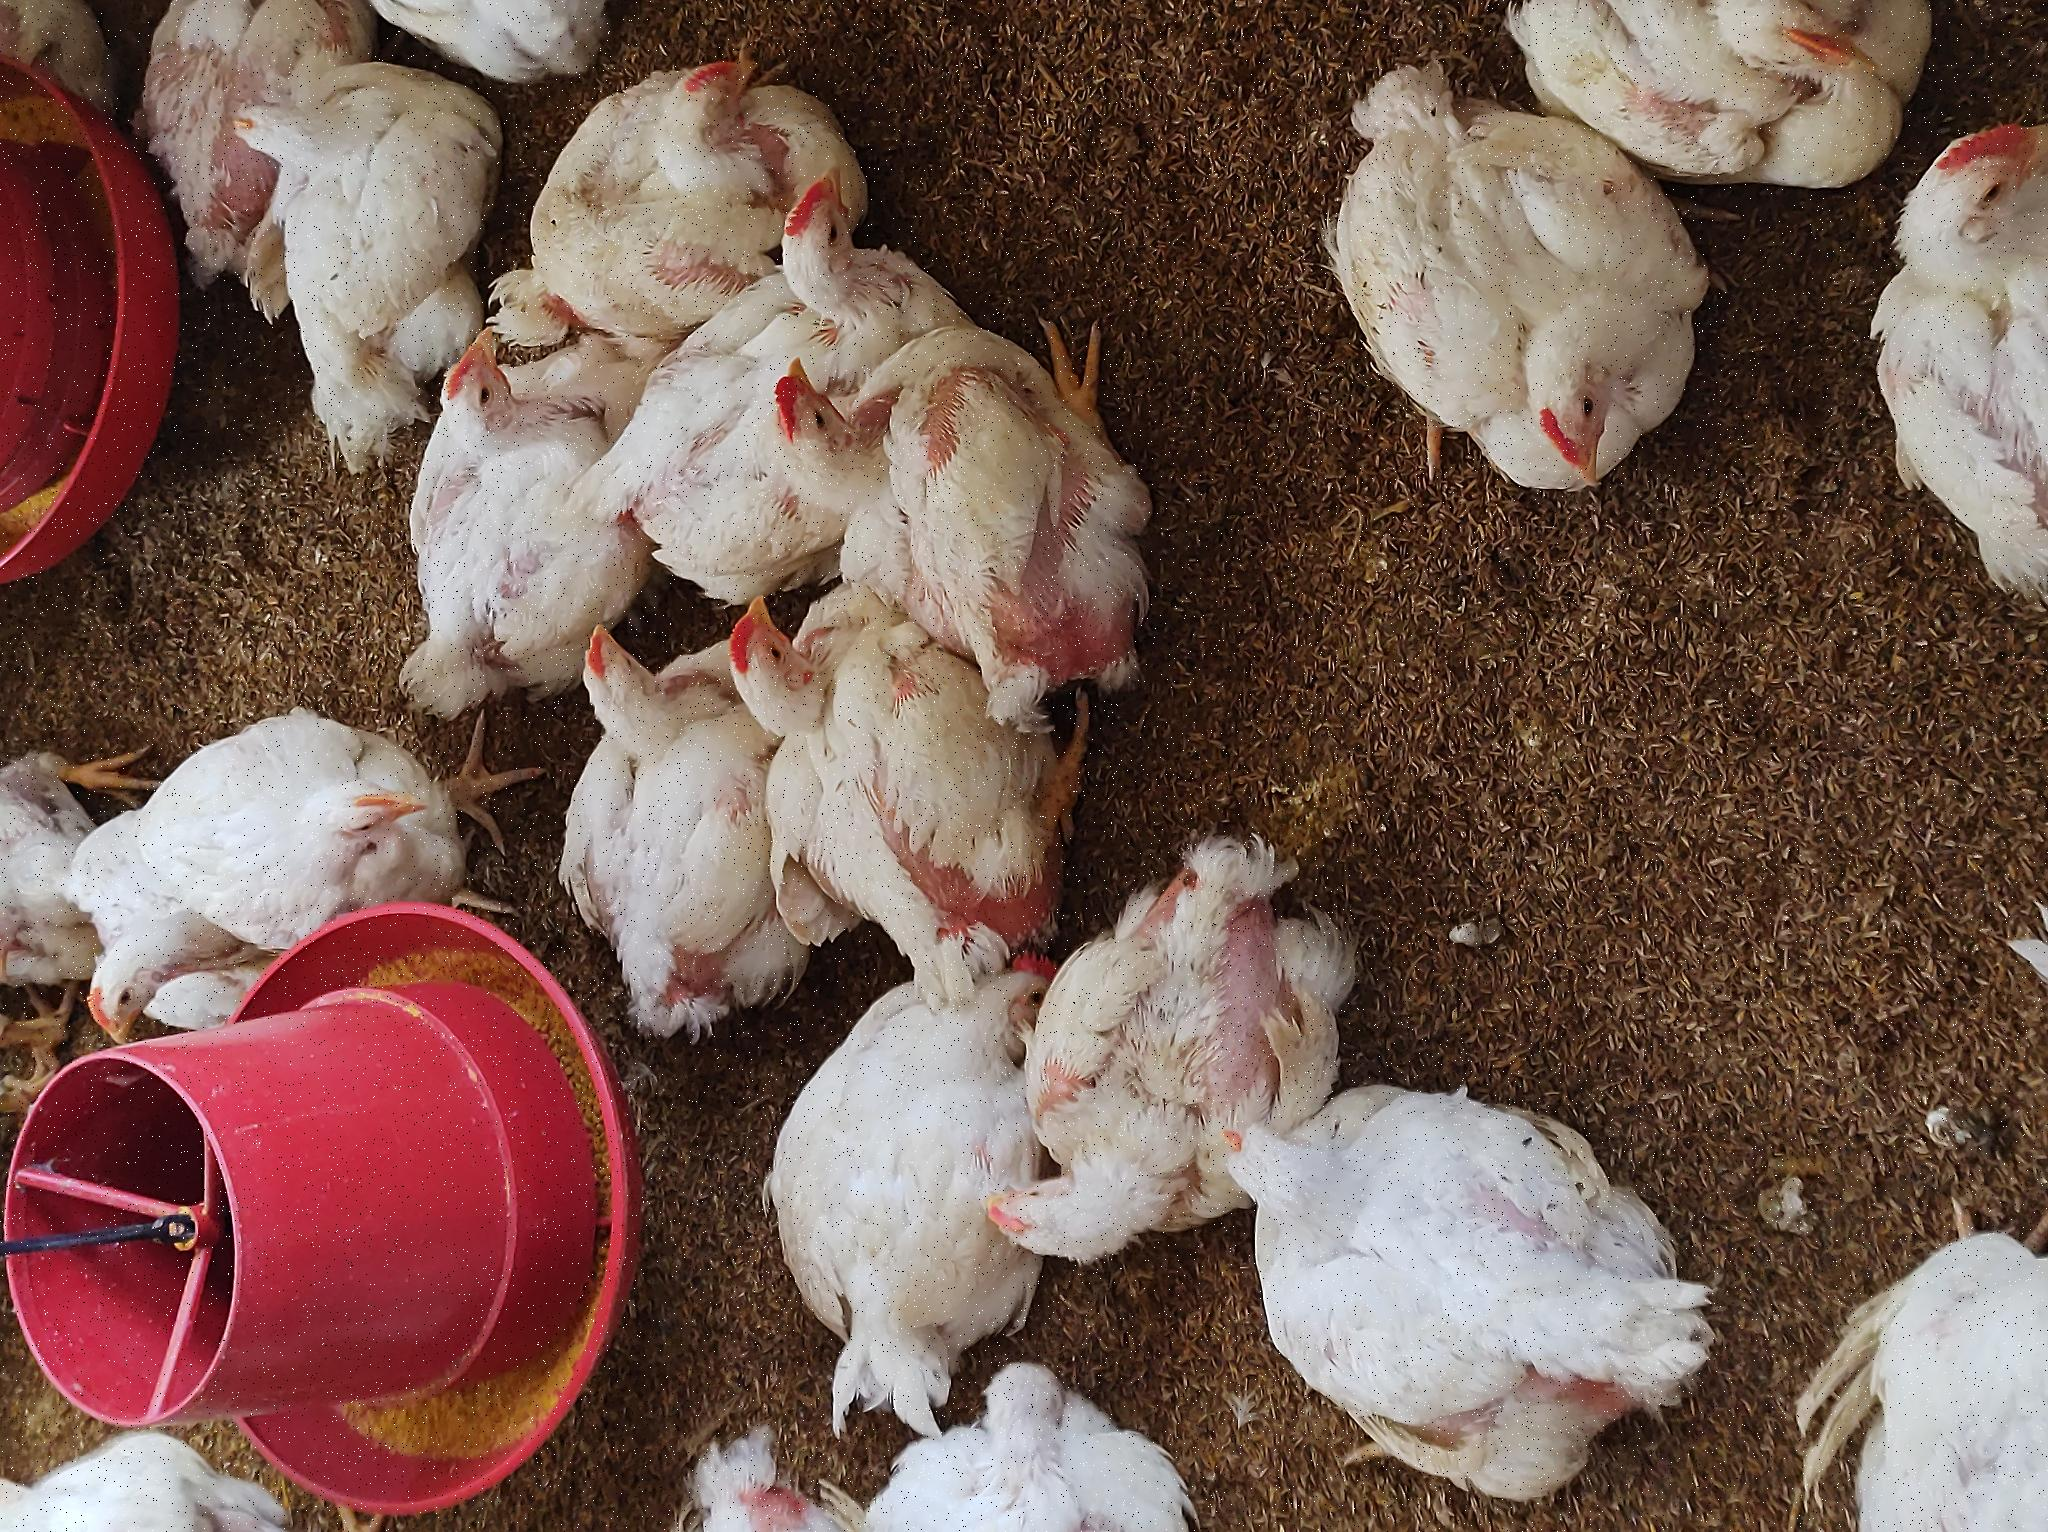Pollos: (264, 980, 695, 1384), (88, 752, 595, 1052), (43, 1213, 447, 1532), (878, 760, 1179, 1186), (637, 692, 915, 1096), (1041, 1307, 1413, 1532), (833, 388, 1184, 624), (504, 541, 906, 747), (1158, 222, 1477, 459), (597, 195, 830, 483), (2, 694, 129, 1173), (1298, 496, 1495, 747), (492, 51, 677, 225), (1234, 732, 1355, 917)
